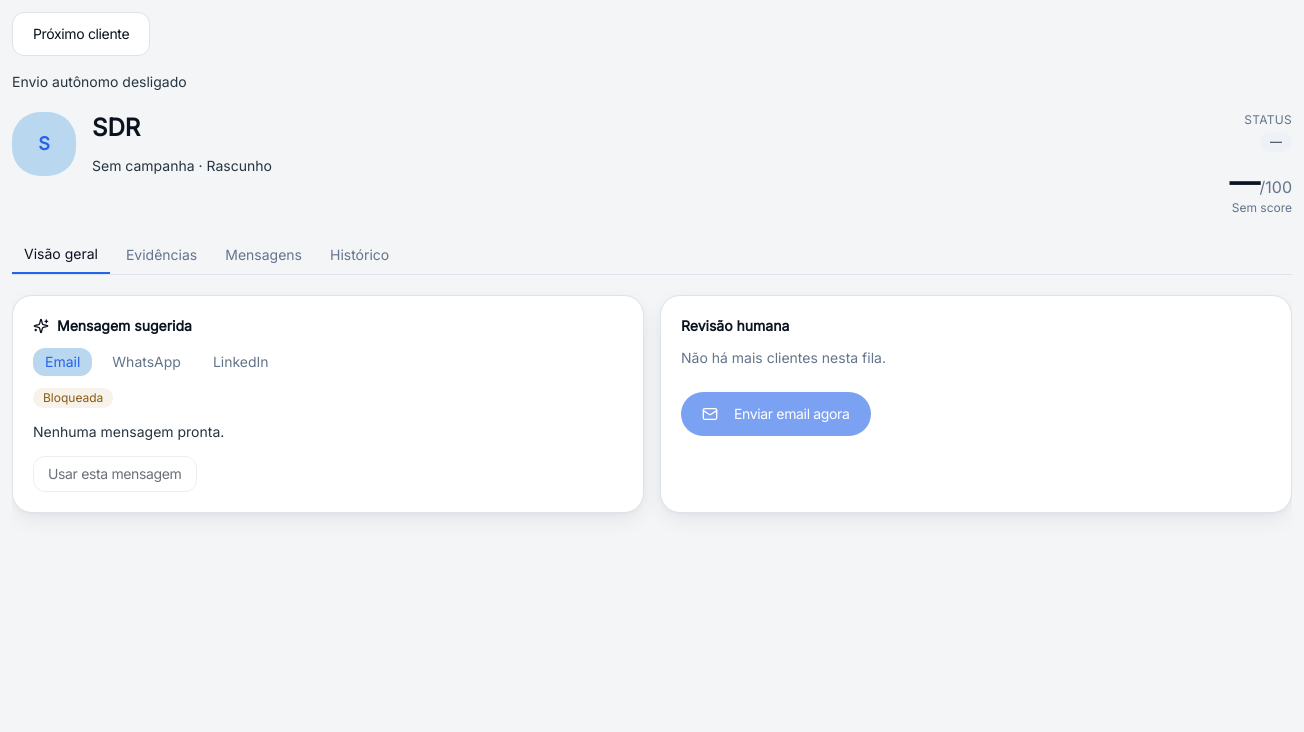
Test case: SdrPage › displays specific api message if it mentions client
The width and height of the screenshot is (1304, 732).
Click the button "Próximo cliente" at (81, 34), box [12,12,150,56]
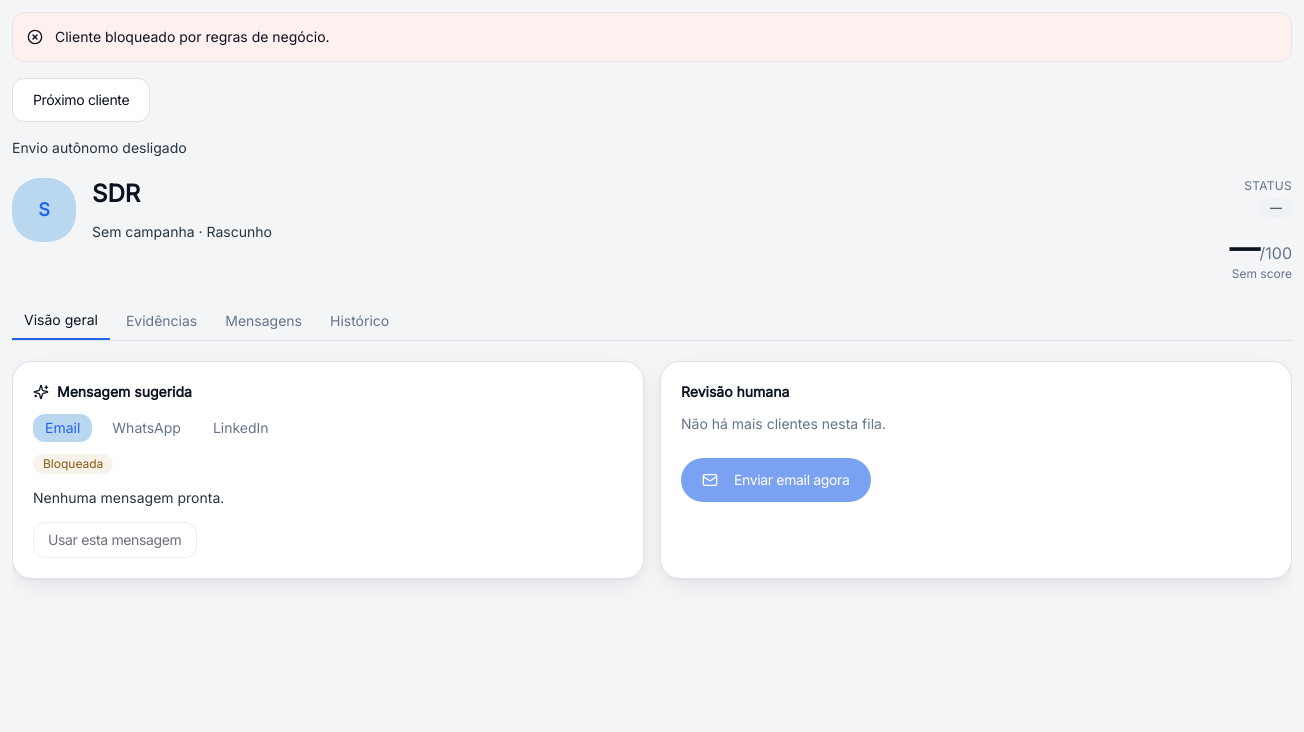
Expected: the message reads "Cliente bloqueado por regras de negócio.", [55,28,330,45]
